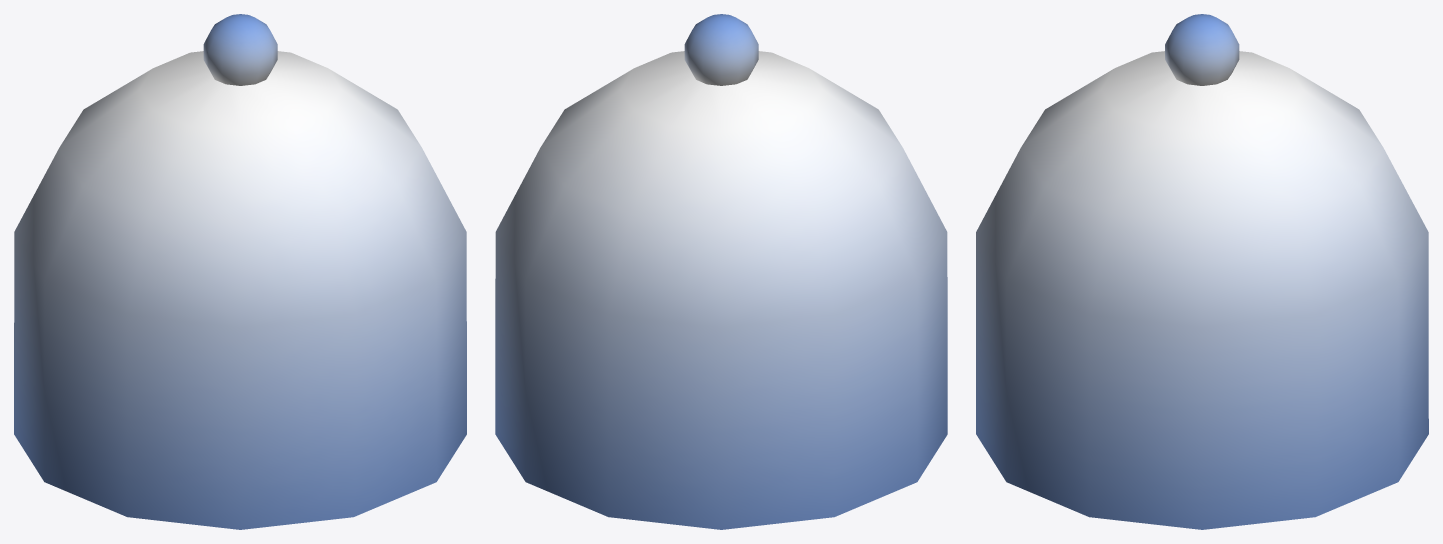
Rendered from m_CakeDome01.fbx.
The picture shows the model from 3 angles, left to right: view 1: azimuth 30°, elevation 25°; view 2: azimuth 150°, elevation 25°; view 3: azimuth 270°, elevation 25°; orthographic projection.
Visible parts, largest first — view 1: m_CakeDome01; view 2: m_CakeDome01; view 3: m_CakeDome01.
Part boxes in pixels (x1,y1,x2,y2): m_CakeDome01: (14,14,466,529); m_CakeDome01: (495,14,947,529); m_CakeDome01: (976,14,1428,529).
Size of the model in its own units: 30.79 by 31.28 by 30.79.
